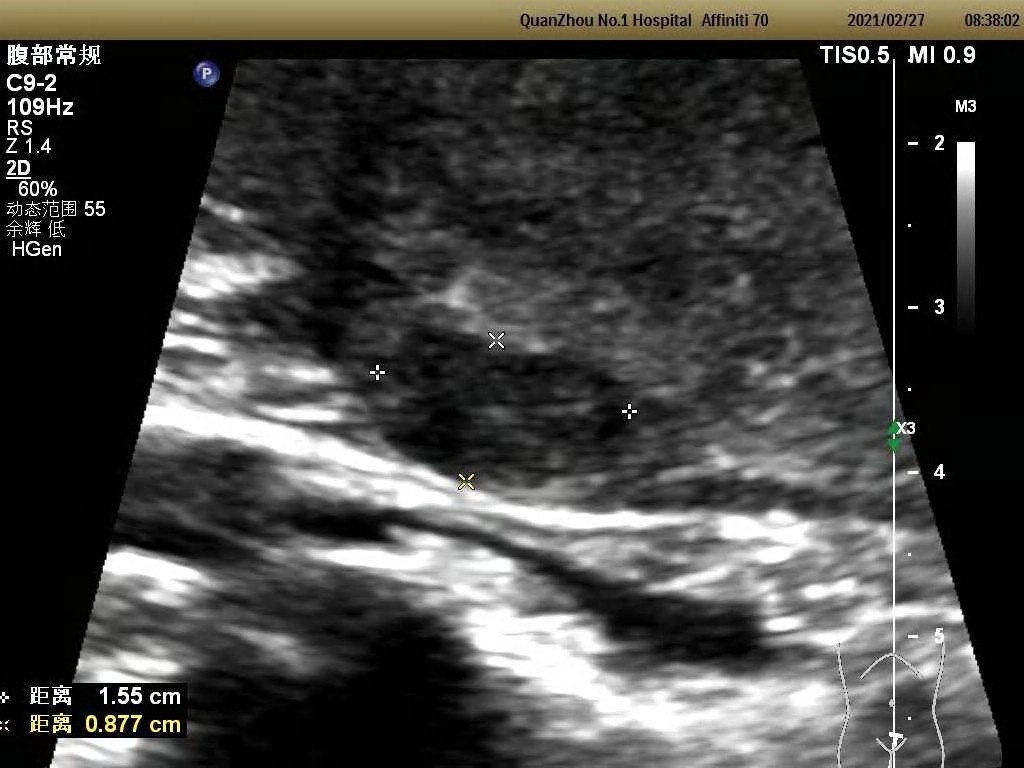肌瘤: (375, 341, 630, 483)
